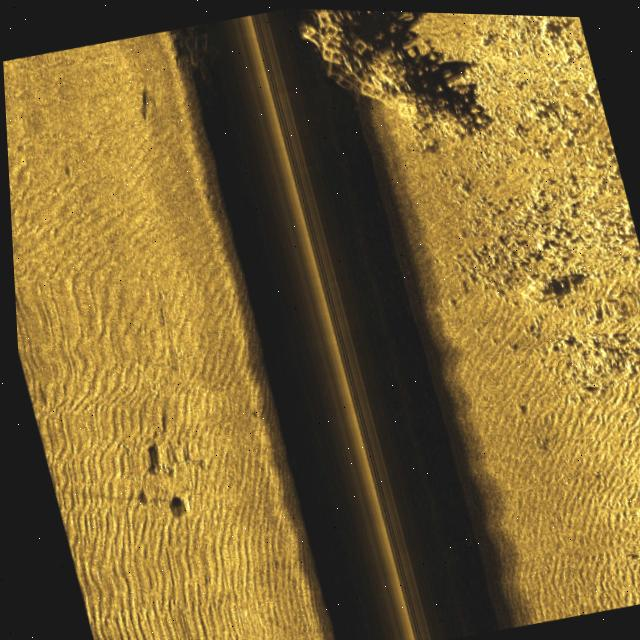artificial reef: (295, 7, 463, 157), (181, 20, 228, 85)
